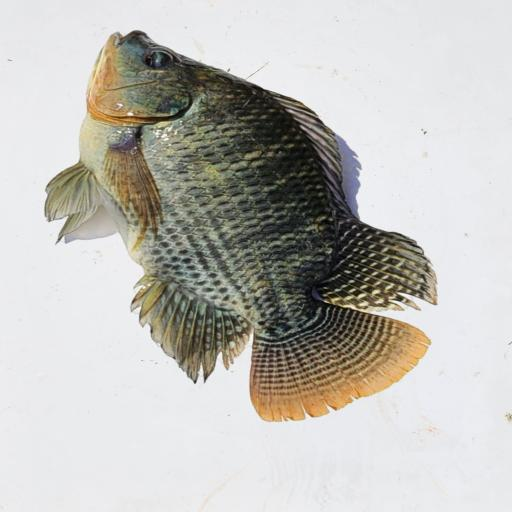Tilapia: (44, 31, 438, 423)
